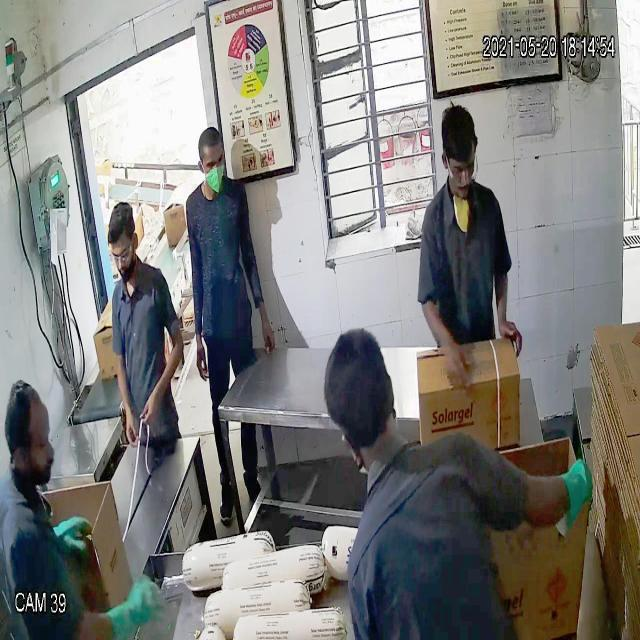glasses: (433, 141, 483, 194), (105, 239, 142, 272)
